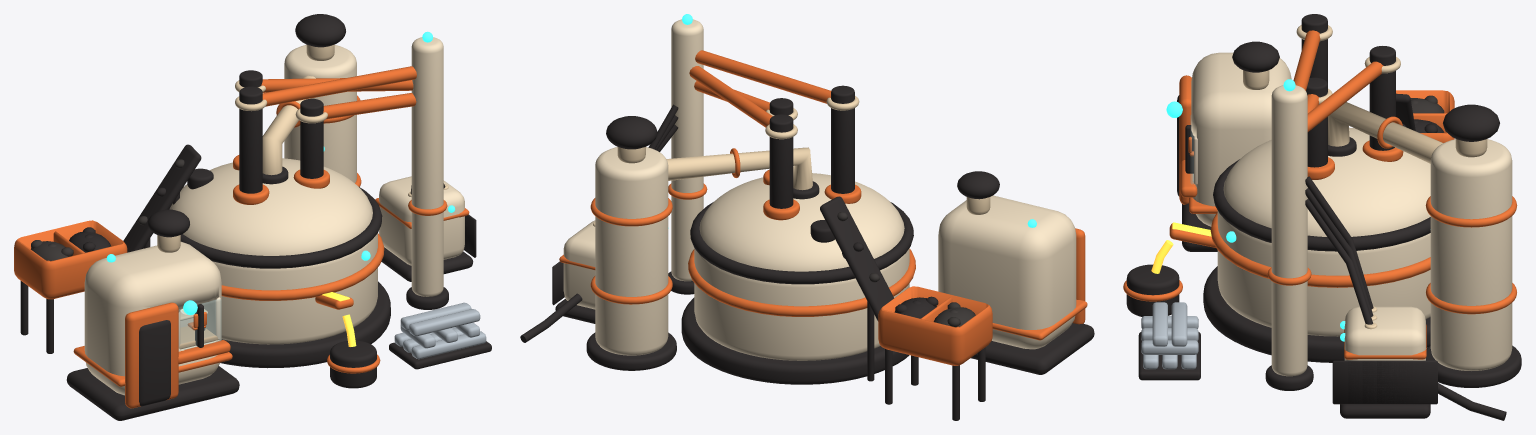
Rendered from smelter.glb.
3 renders of one model, left to right at view 1: azimuth 30°, elevation 25°; view 2: azimuth 150°, elevation 25°; view 3: azimuth 270°, elevation 25°, orthographic. The views are drawn at different scales.
Visible parts, largest first — view 1: Cube.001, Cube, Cube.002, Cube.013, Cube.027, Cube.034, Sphere.007, Cube.023, Cube.031, Cube.024; view 2: Cube.001, Cube, Cube.002, Cube.027, Sphere.007; view 3: Cube.001, Cube, Cube.002, Cube.027, Cube.013, Cube.011, Cube.031, Sphere.007.
Part boxes in pixels (x1,y1,x2,y2): Cube.001: (84,37,464,395); Cube: (20,14,491,420); Cube.002: (14,66,469,408); Cube.013: (394,302,486,359); Cube.027: (157,44,448,320); Cube.034: (179,299,221,350); Sphere.007: (31,159,184,260); Cube.023: (178,297,220,347); Cube.031: (106,31,455,315); Cube.024: (179,326,218,349); Cube.001: (563,19,1076,360); Cube: (520,85,1094,420); Cube.002: (559,50,1087,365); Cube.027: (593,96,990,226); Sphere.007: (837,212,975,326); Cube.001: (1191,52,1512,376); Cube: (1126,14,1521,420); Cube.002: (1123,30,1517,359); Cube.027: (1243,25,1487,329); Cube.013: (1141,302,1198,369); Cube.011: (1151,222,1211,273); Cube.031: (1166,79,1345,341); Sphere.007: (1410,95,1444,113).
Size of the model in its own units: 2.32 by 1.4 by 1.66.
